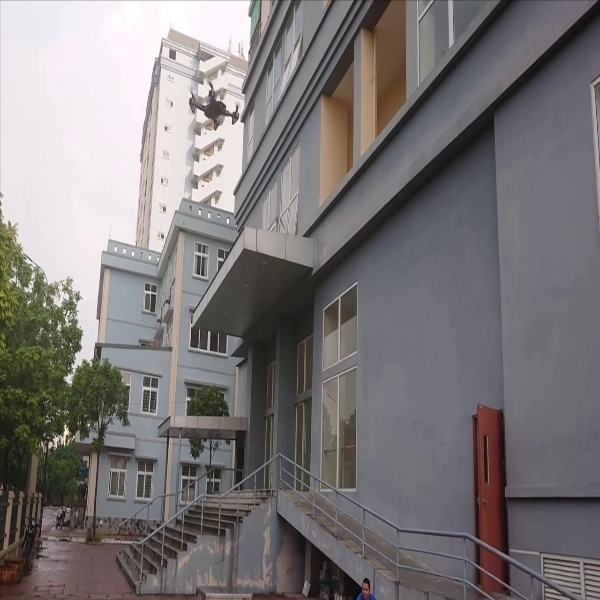drone: (182, 78, 244, 142)
